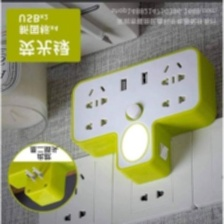three_eye_plug: (64, 44, 219, 192), (108, 112, 197, 224), (40, 143, 118, 223), (5, 138, 79, 209), (188, 112, 224, 209)
